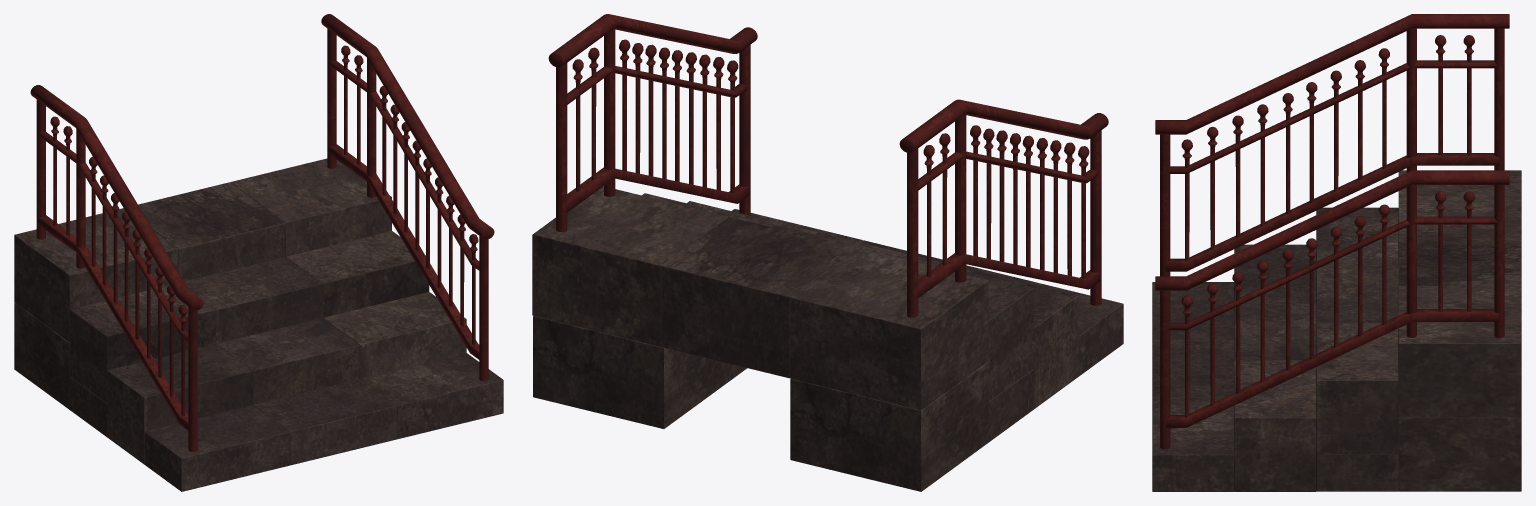
File: SK3 STAIR EXT SMALL.fbx
3 views of the same model, side by side, from view 1: azimuth 30°, elevation 25°; view 2: azimuth 150°, elevation 25°; view 3: azimuth 270°, elevation 25° (orthographic). The views are drawn at different scales.
Visible parts, largest first — view 1: SK3 STAIR EXT SMALL; view 2: SK3 STAIR EXT SMALL; view 3: SK3 STAIR EXT SMALL.
Part boxes in pixels (x1,y1,x2,y2): SK3 STAIR EXT SMALL: (14,14,503,491); SK3 STAIR EXT SMALL: (532,14,1123,491); SK3 STAIR EXT SMALL: (1152,14,1521,491).
Bounding box in the file's own units: 200 × 169 × 180.
